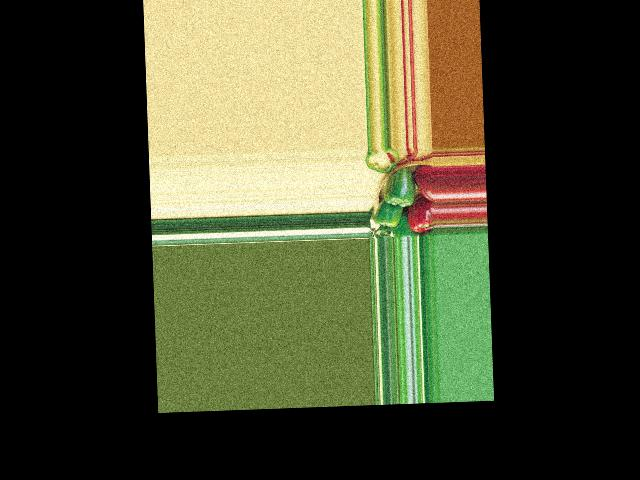bell_pepper: (415, 165, 433, 203)
